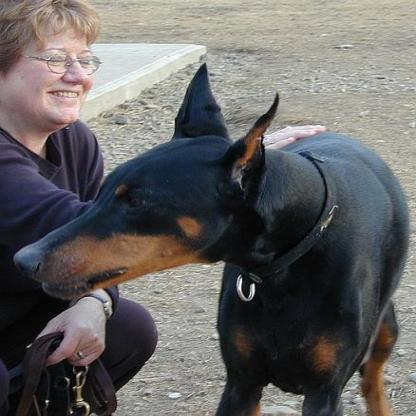Doberman: (12, 64, 406, 414)
